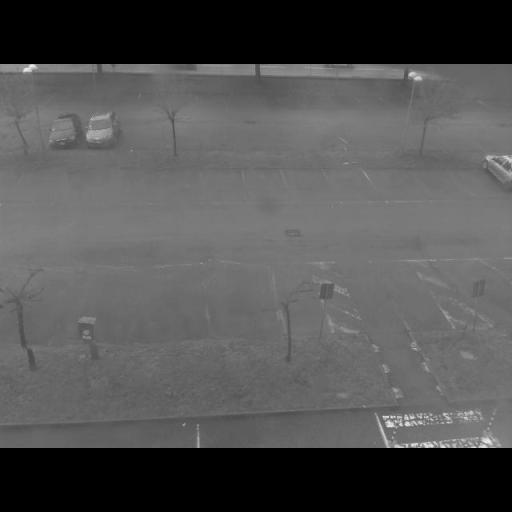busy: (41, 114, 87, 152), (79, 112, 124, 149), (478, 154, 512, 191)
free: (201, 258, 284, 344), (66, 262, 142, 349), (136, 258, 211, 344), (1, 264, 73, 352), (457, 257, 512, 331), (68, 160, 122, 200), (15, 162, 70, 198), (146, 162, 202, 196), (288, 126, 348, 157), (124, 118, 174, 148), (0, 118, 39, 152), (199, 130, 246, 153), (200, 169, 242, 191), (267, 88, 306, 110), (244, 169, 282, 191), (330, 168, 364, 190), (372, 170, 406, 188), (286, 171, 324, 187), (222, 89, 250, 108)
